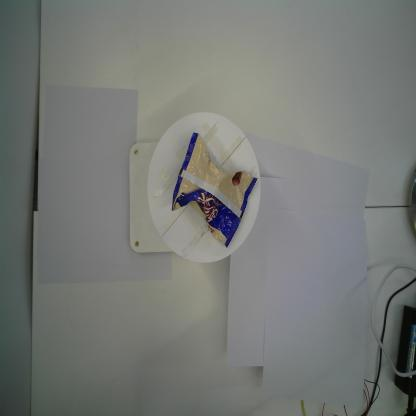Dessert: (170, 132, 259, 249)
